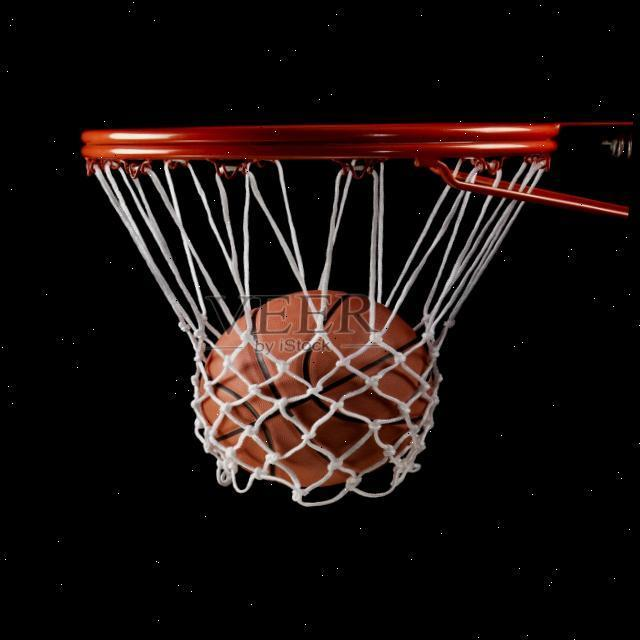Goal: (199, 290, 439, 488)
